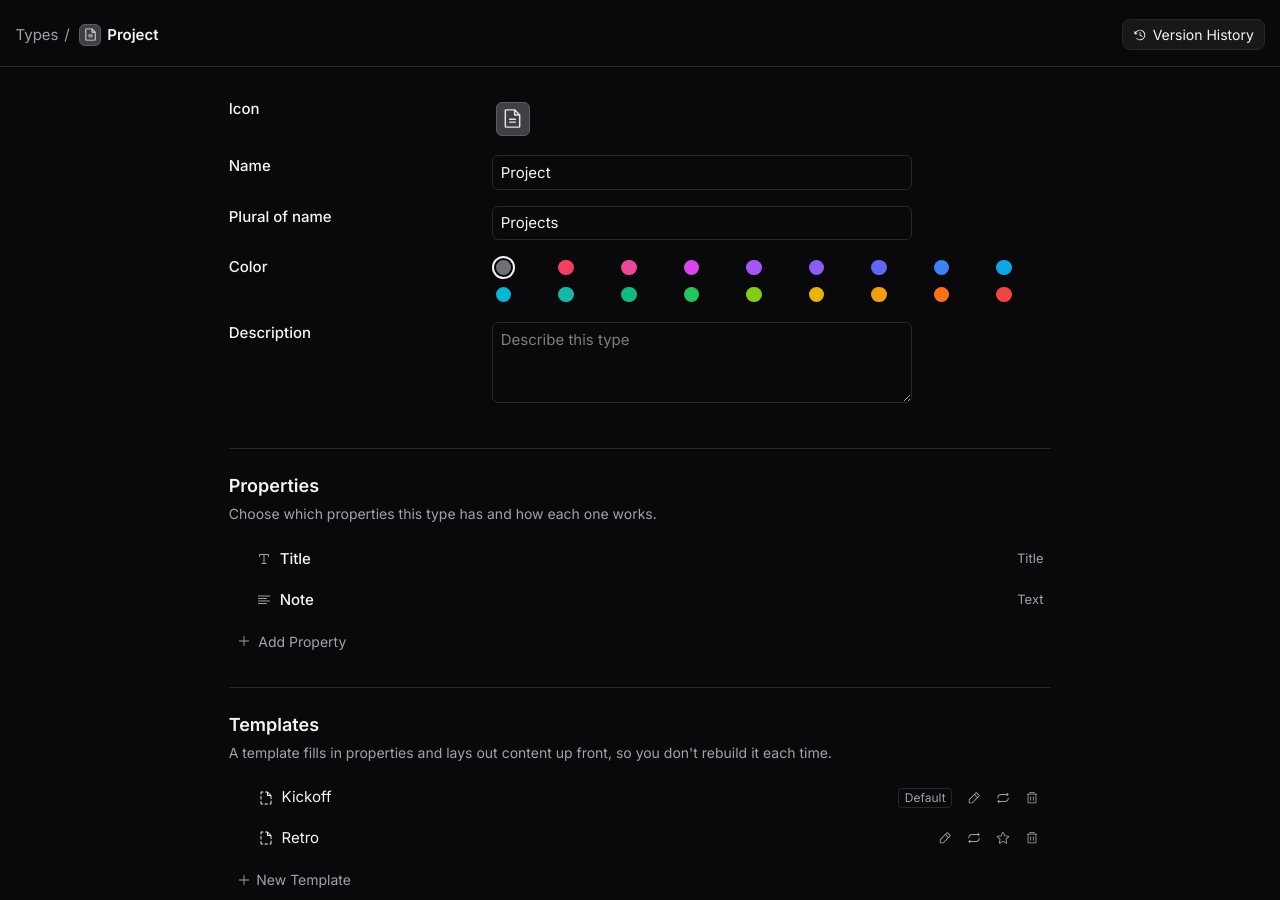
Test case: TypeSettings › test editing Name saves type on blur with baseRevision
Step 1. Replace the text in the field named "Name" with "Venture" → (702, 173), box 492,155 -> 912,190
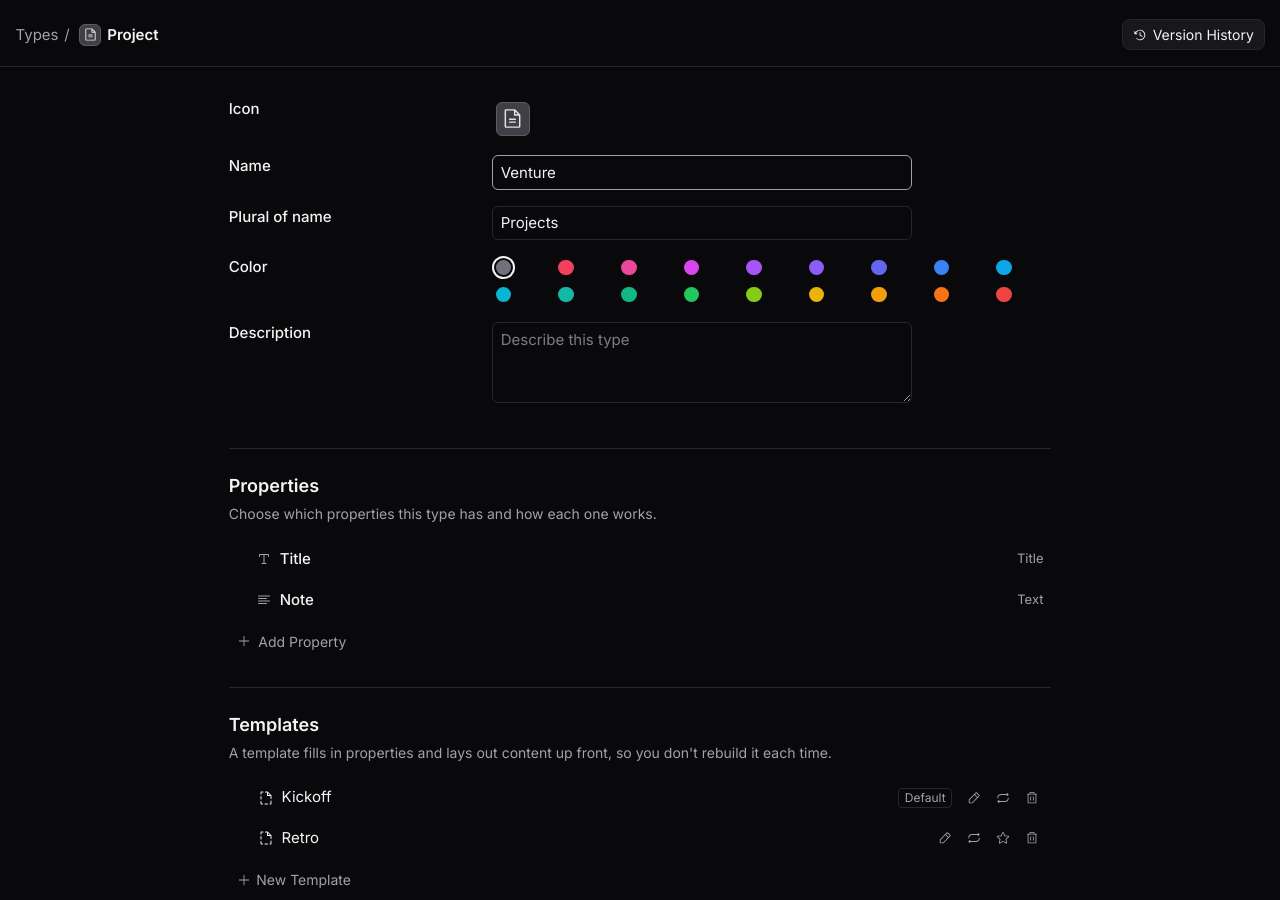
Step 2. Press Tab
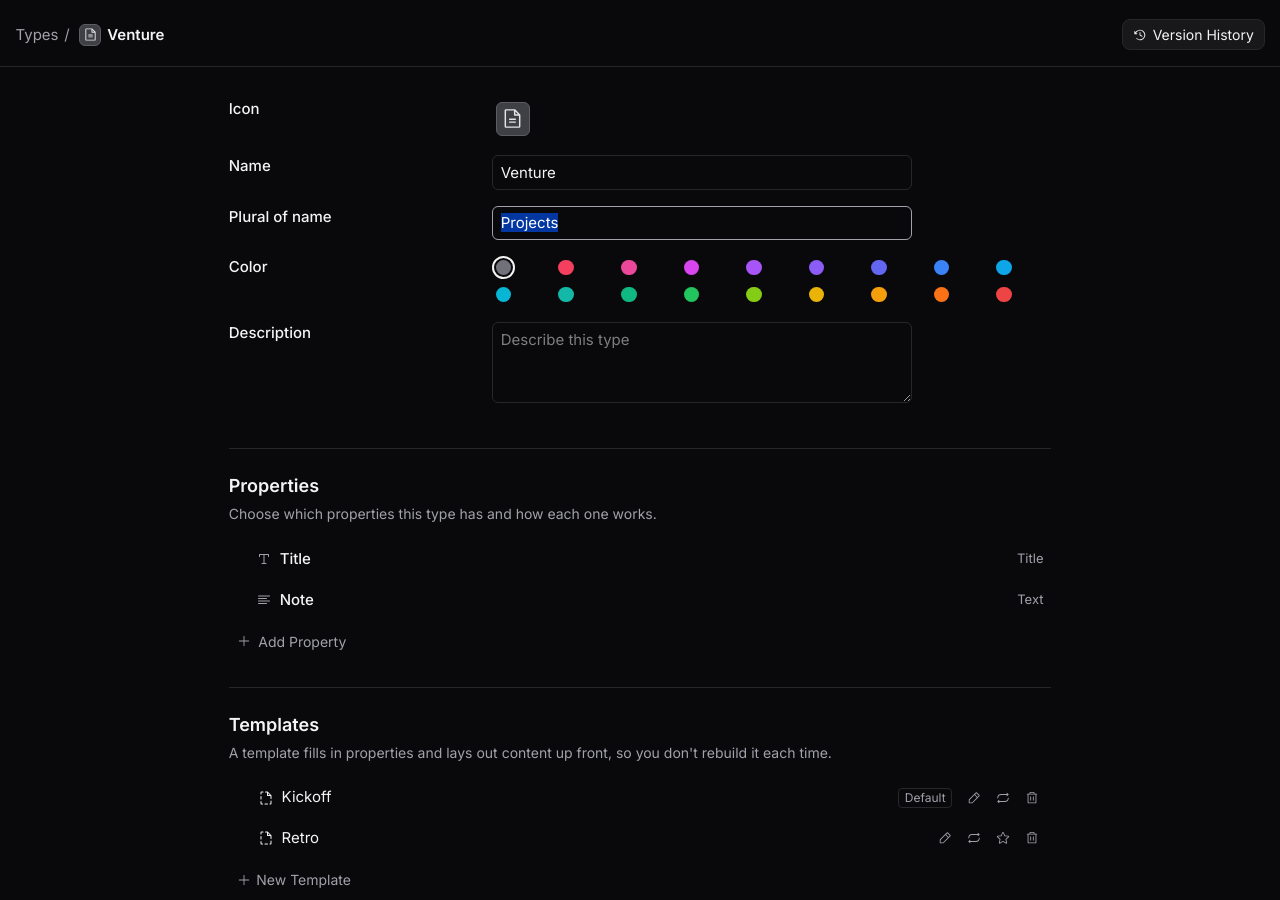
Result: the button "Venture" is shown at 76,24 -> 168,46
